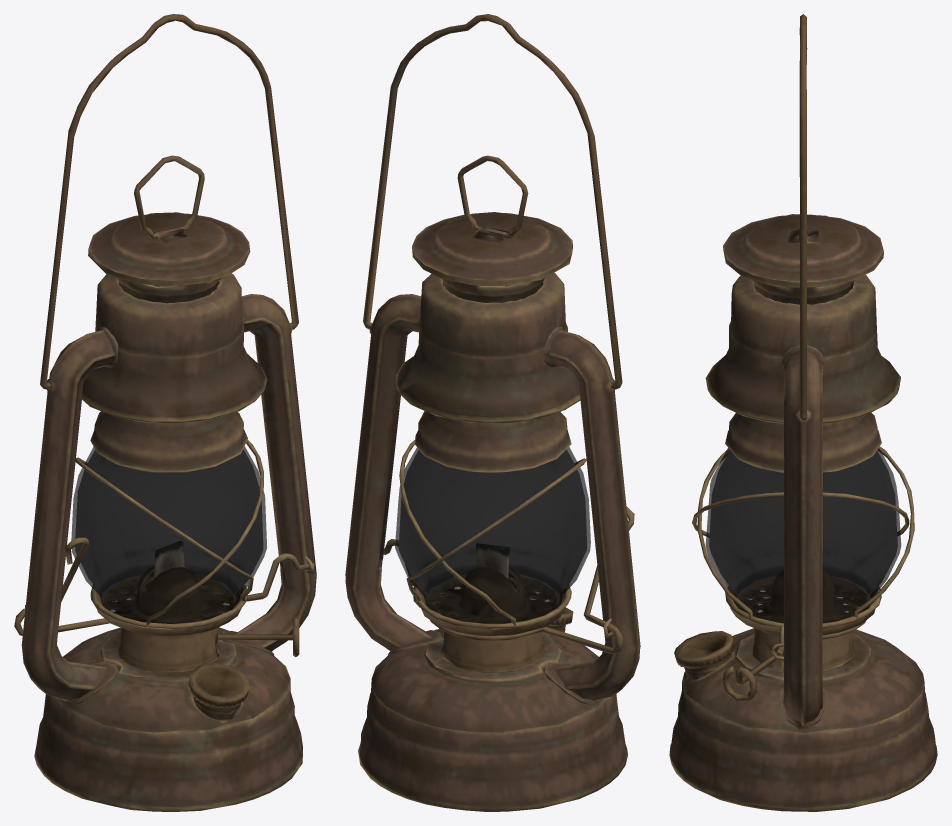
The model's file is Lantern_01.glb.
3 renders of one model, left to right at view 1: azimuth 30°, elevation 25°; view 2: azimuth 150°, elevation 25°; view 3: azimuth 270°, elevation 25°, orthographic.
Visible parts, largest first — view 1: Lantern_01, Lantern_01_glass; view 2: Lantern_01, Lantern_01_glass; view 3: Lantern_01, Lantern_01_glass.
Boxes of the visible parts, box(x1,y1,x2,y2) form: Lantern_01: box(14, 14, 316, 811); Lantern_01_glass: box(71, 446, 266, 623); Lantern_01: box(345, 14, 640, 811); Lantern_01_glass: box(395, 447, 590, 623); Lantern_01: box(669, 14, 937, 811); Lantern_01_glass: box(705, 448, 901, 622).
Bounding box in the file's own units: 0.1221 × 0.2942 × 0.0969.
2 materials, 2 textured.
